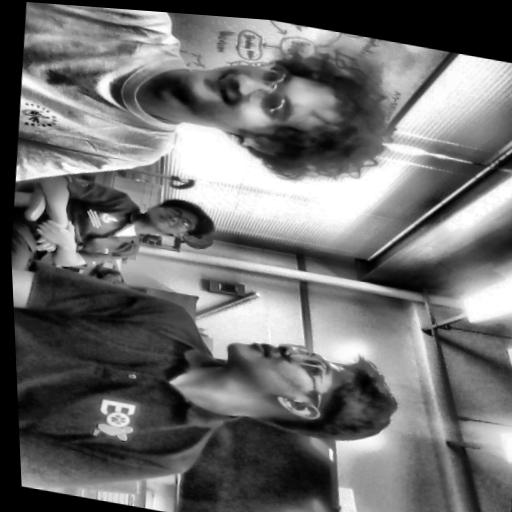Daifuku: (173, 24, 403, 199)
Not Daifuku: (212, 334, 404, 457), (141, 195, 222, 255)
